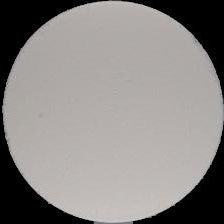53808-0259: (0, 0, 224, 224)
